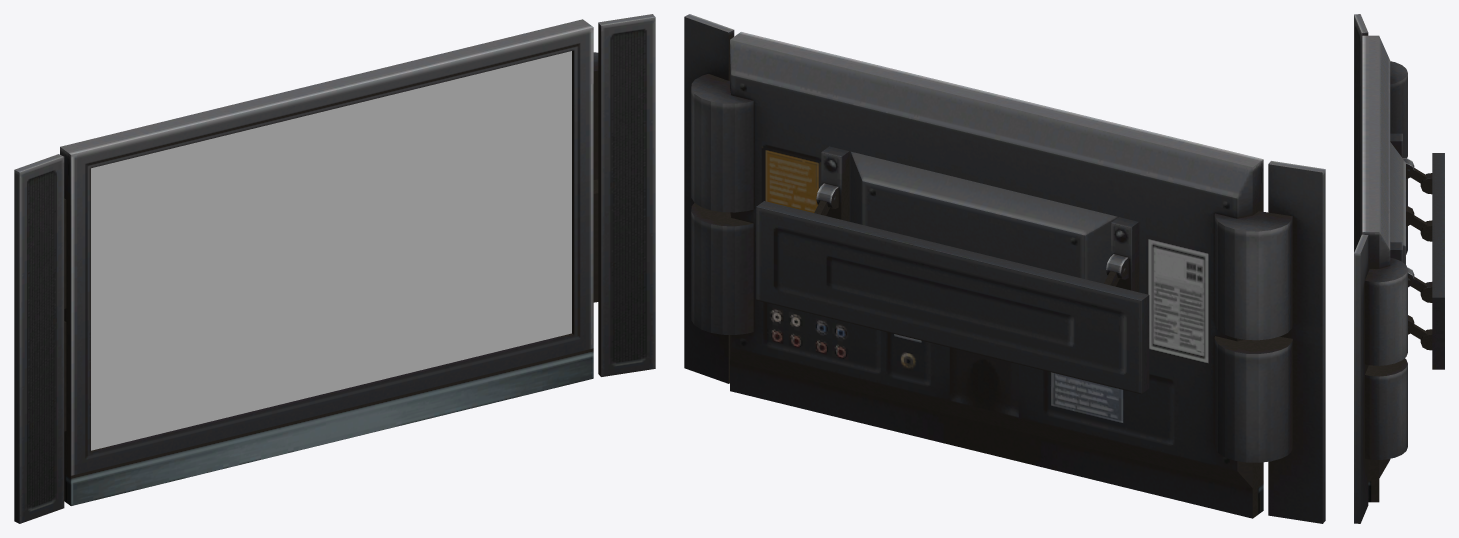
The picture shows the model from 3 angles, left to right: view 1: azimuth 30°, elevation 25°; view 2: azimuth 150°, elevation 25°; view 3: azimuth 270°, elevation 25°; orthographic projection. The views are drawn at different scales.
Parts seen in each view (by area): view 1: s4studio_mesh_1, s4studio_mesh_0; view 2: s4studio_mesh_0; view 3: s4studio_mesh_0.
Part boxes in pixels (box(x1,y1,x2,y2)): s4studio_mesh_1: box(91, 51, 571, 450); s4studio_mesh_0: box(14, 14, 655, 523); s4studio_mesh_0: box(684, 14, 1325, 523); s4studio_mesh_0: box(1354, 14, 1444, 523).
Bounding box in the file's own units: 1.84 × 0.9695 × 0.2957.
